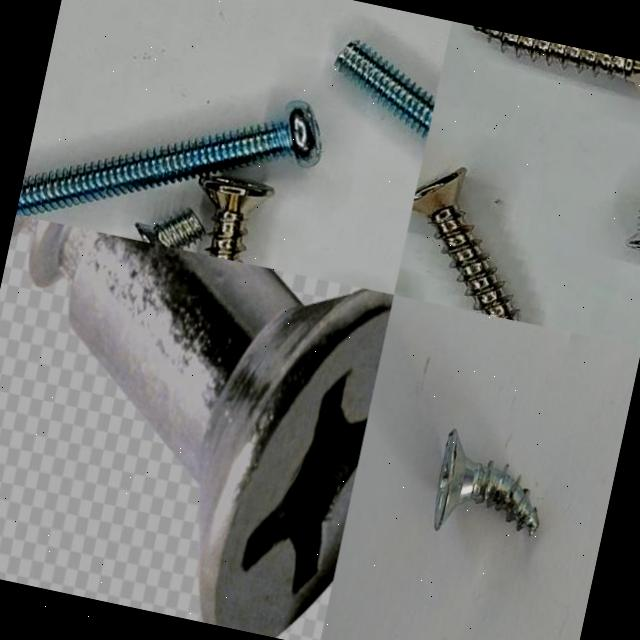Screw: (11, 214, 393, 637), (15, 100, 320, 215), (411, 168, 519, 321), (433, 427, 539, 534), (334, 40, 435, 139), (471, 25, 640, 84), (198, 175, 273, 262), (133, 209, 203, 249)
